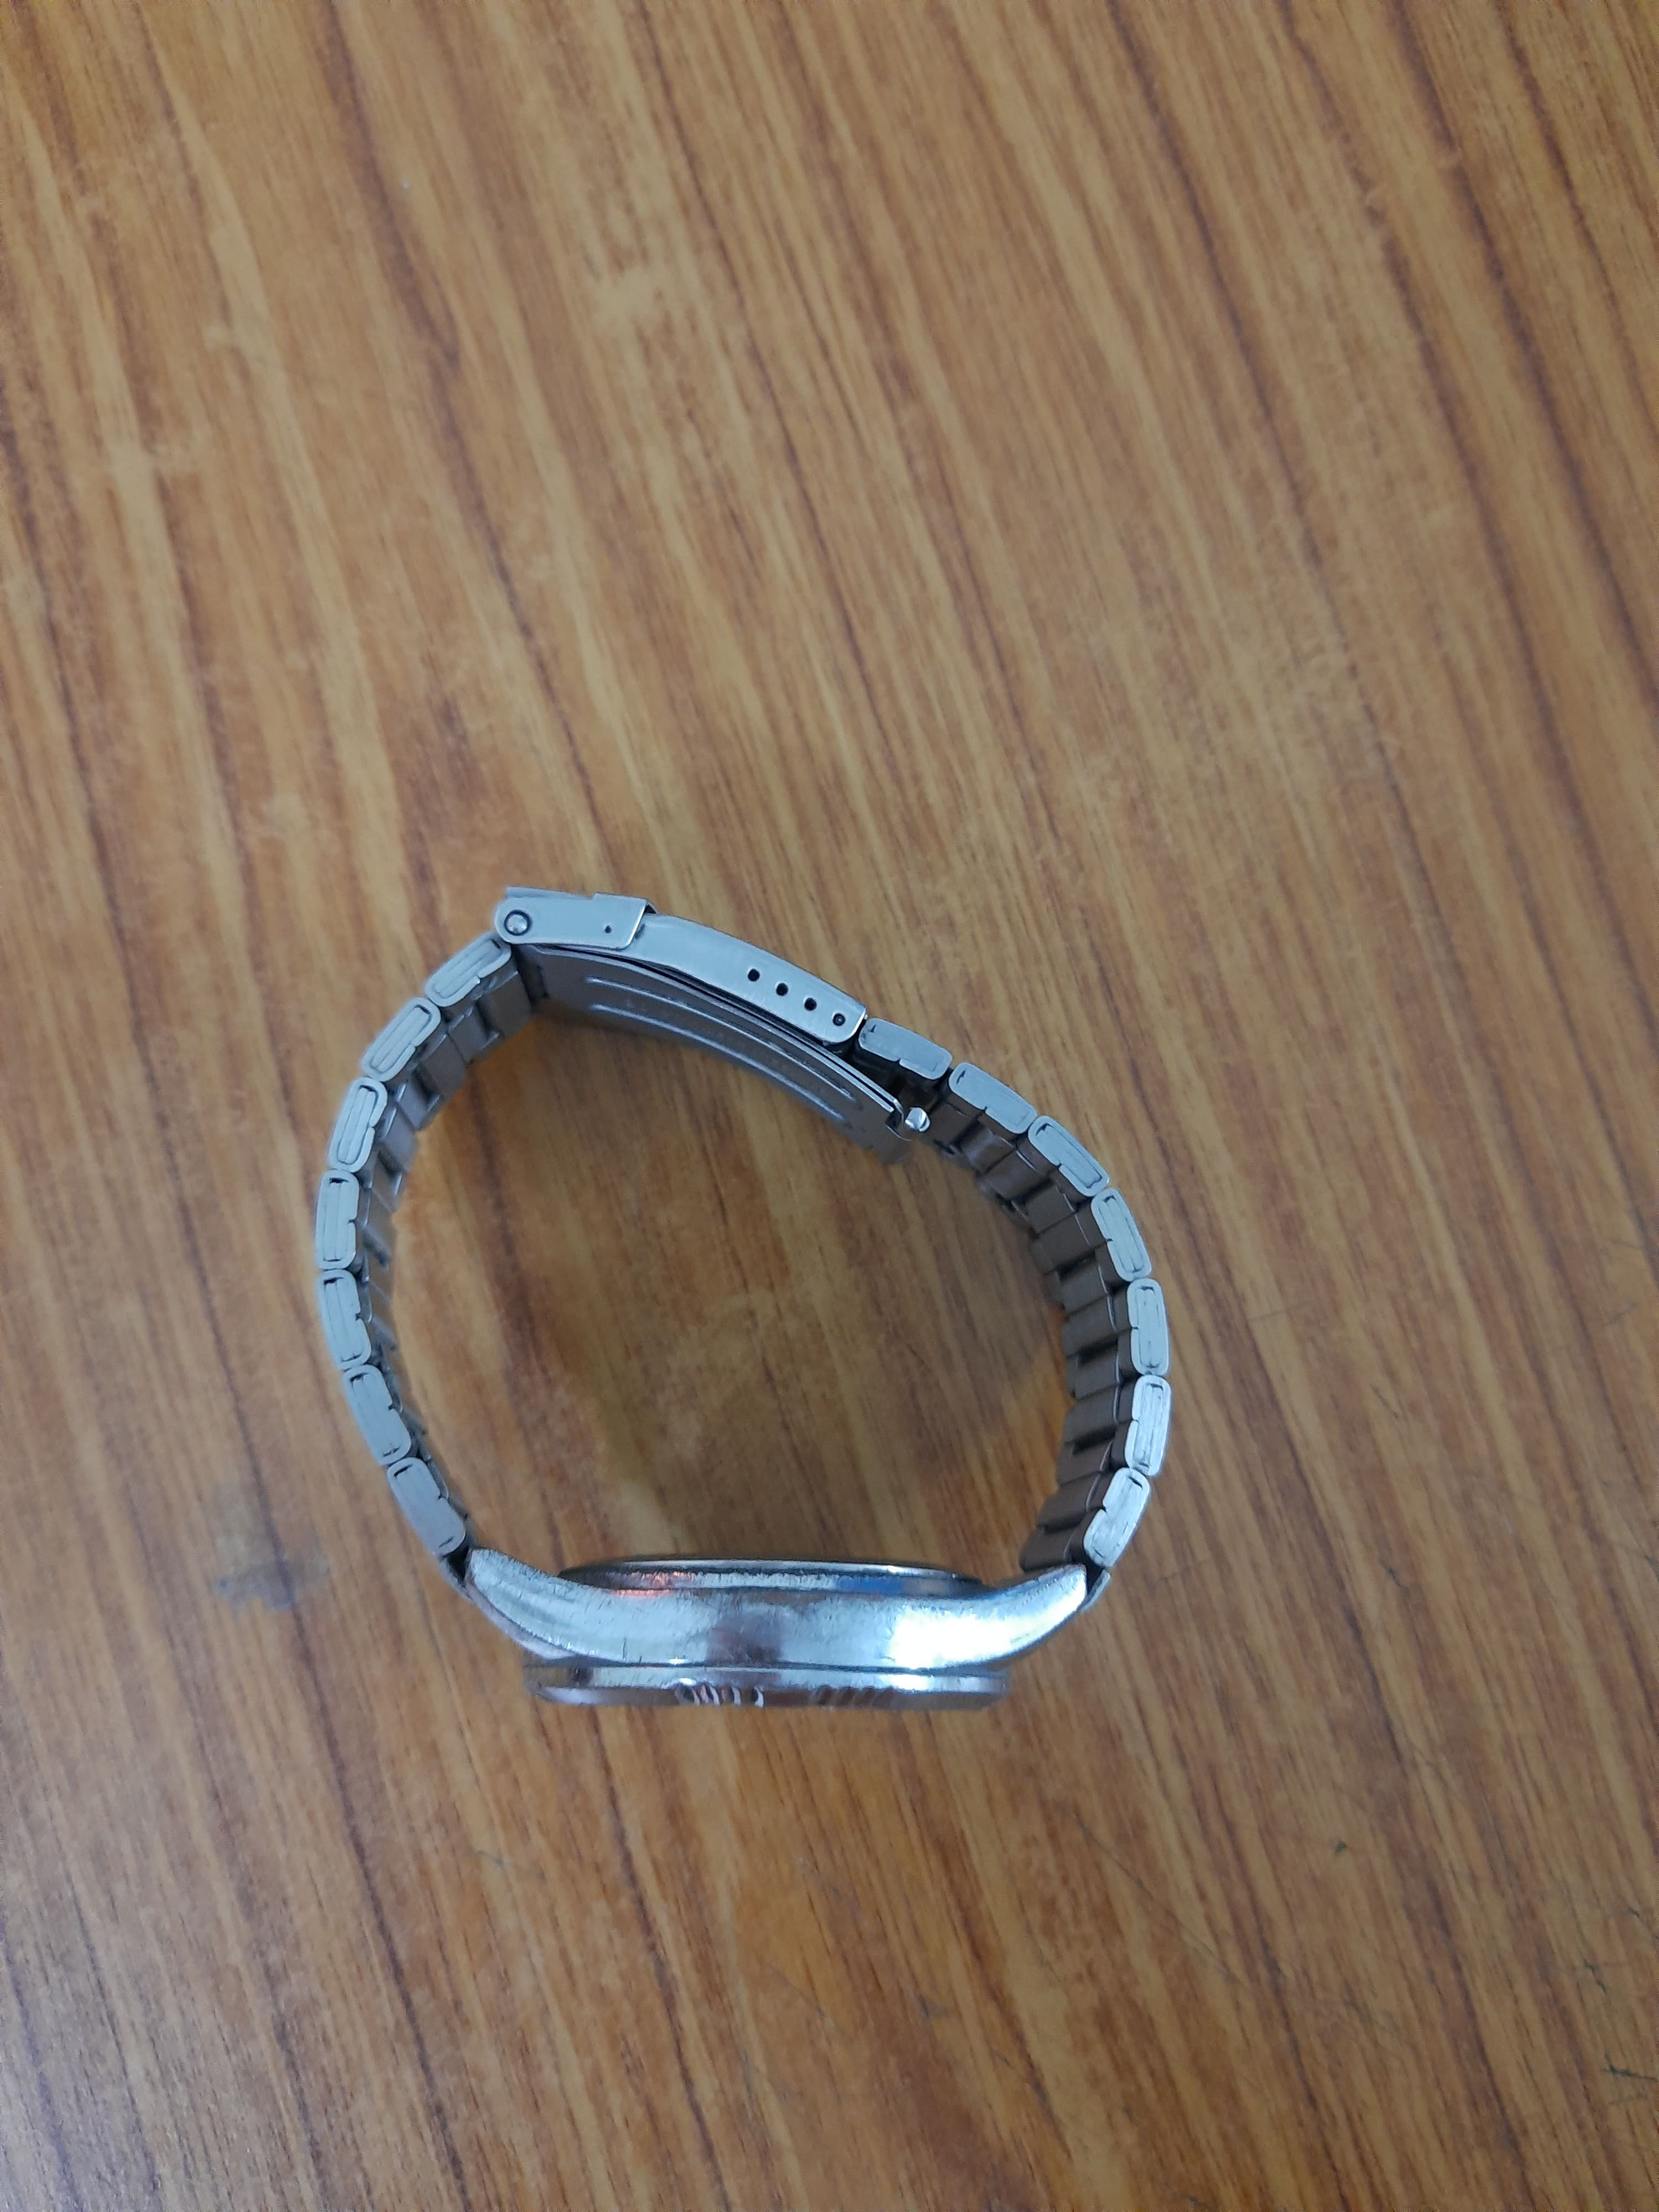Vikash's Watch: (305, 881, 1171, 1703)
